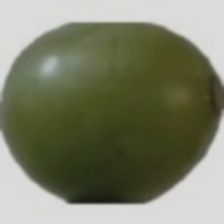grapes: (18, 16, 214, 186)
